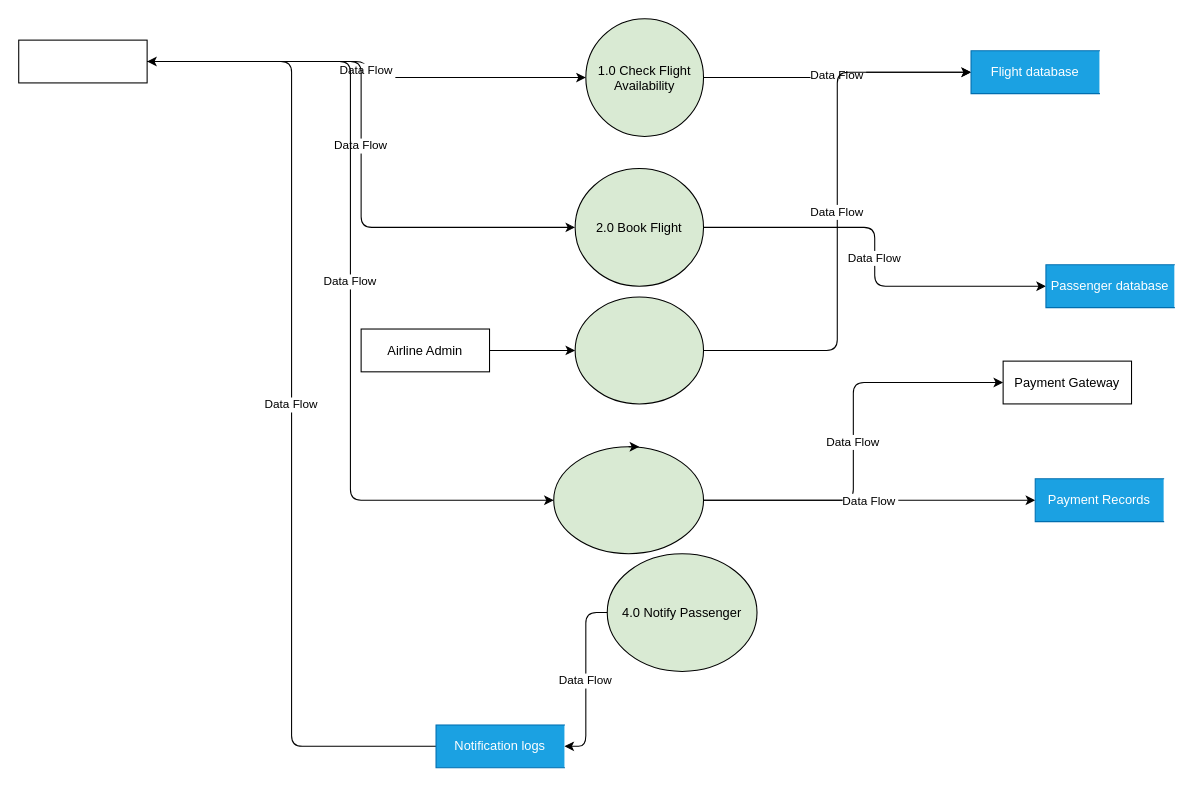
Some shapes in this 1193 by 786 pixel diagram are drawn without their labels. Here are the shapes that lost their labels. From the top down, the centre of each, then its label:
pixel 82 61: Passenger
pixel 639 350: 5.0 Update Flight Schedules
pixel 628 500: 3.0 Process Payment
